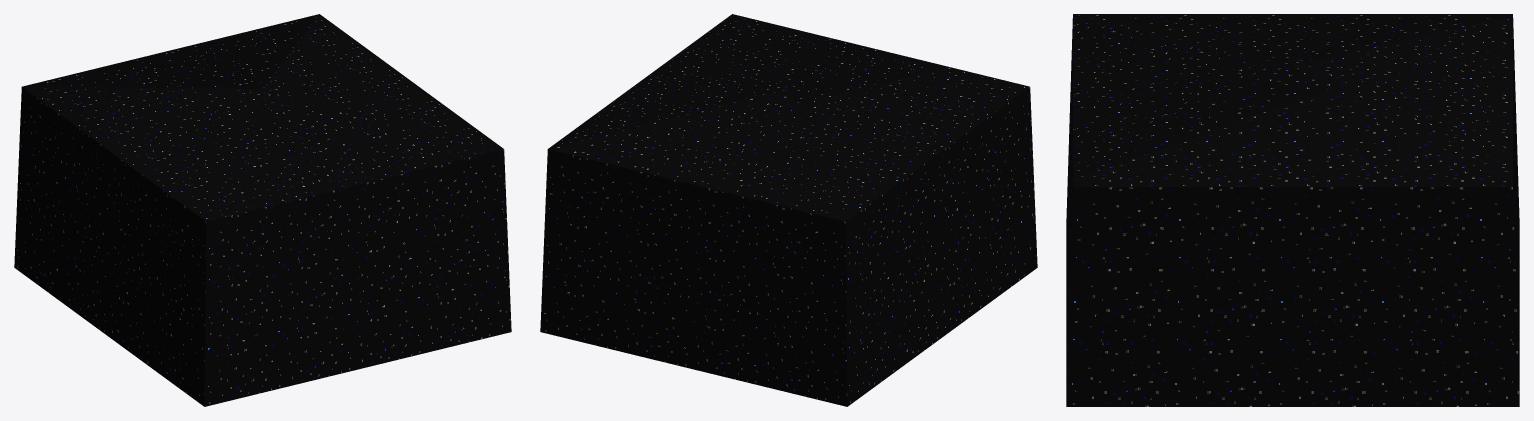
File: wStadiumBox.glb
3 views of the same model, side by side, from view 1: azimuth 30°, elevation 25°; view 2: azimuth 150°, elevation 25°; view 3: azimuth 270°, elevation 25° (orthographic). The views are drawn at different scales.
Parts seen in each view (by area): view 1: Wario Stadium V; view 2: Wario Stadium V; view 3: Wario Stadium V.
Part boxes in pixels (x1,y1,x2,y2): Wario Stadium V: (14, 14, 511, 406); Wario Stadium V: (540, 14, 1037, 406); Wario Stadium V: (1066, 14, 1519, 406).
Size of the model in its own units: 944 by 619 by 1013.
Materials: 15 (15 with a texture image).
